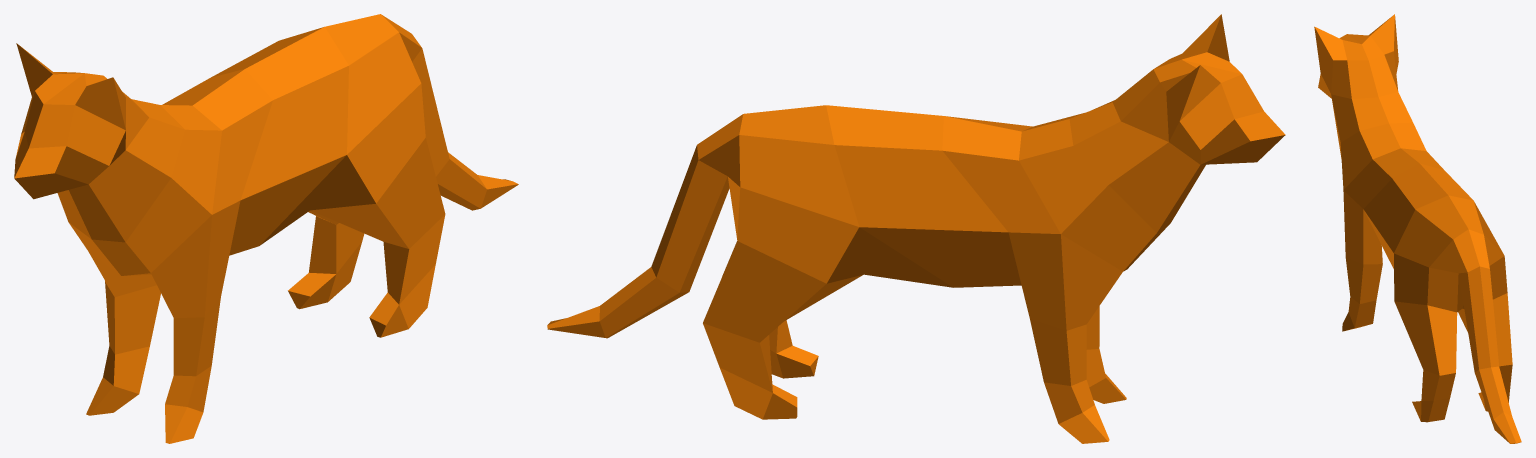
The model's file is cat.fbx.
The picture shows the model from 3 angles, left to right: view 1: azimuth 30°, elevation 25°; view 2: azimuth 150°, elevation 25°; view 3: azimuth 270°, elevation 25°; orthographic projection. The views are drawn at different scales.
Visible parts, largest first — view 1: ORIGAMI_Chat; view 2: ORIGAMI_Chat; view 3: ORIGAMI_Chat.
Boxes of the visible parts, left/top/right/bottom form: ORIGAMI_Chat: left=14, top=14, right=518, bottom=443; ORIGAMI_Chat: left=547, top=14, right=1285, bottom=443; ORIGAMI_Chat: left=1314, top=14, right=1521, bottom=443.
Bounding box in the file's own units: 58.25 × 35.28 × 24.39.
